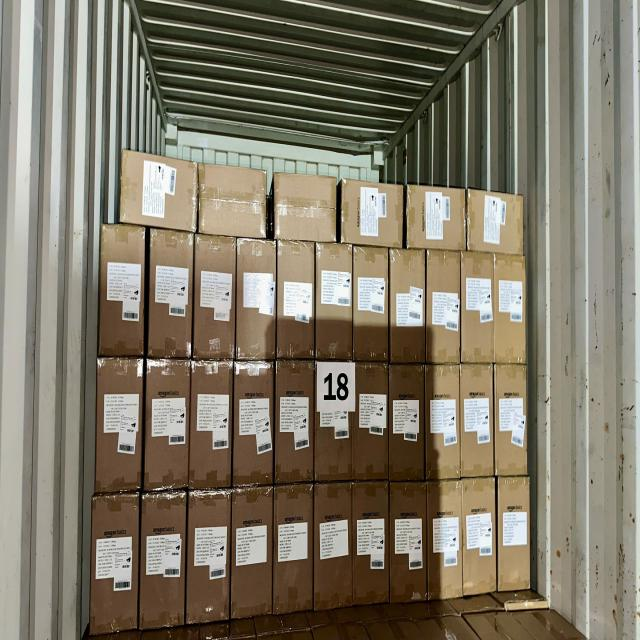Carton: (89, 496, 137, 634), (118, 152, 196, 234), (141, 494, 186, 635), (94, 360, 140, 494), (103, 227, 147, 361), (189, 493, 232, 628), (145, 361, 189, 491), (148, 231, 192, 359), (233, 486, 275, 620), (193, 362, 234, 491), (199, 167, 268, 242), (196, 235, 237, 360), (231, 360, 271, 487), (275, 489, 314, 617), (235, 239, 275, 361), (316, 482, 354, 609), (276, 362, 314, 486), (272, 171, 336, 242), (317, 361, 354, 483), (391, 482, 429, 600), (277, 242, 315, 360), (353, 482, 389, 604), (391, 251, 428, 367), (391, 365, 427, 482), (464, 476, 499, 596), (426, 478, 461, 598), (318, 246, 354, 362), (497, 475, 532, 594), (424, 250, 460, 364), (340, 181, 402, 247), (424, 367, 459, 482), (407, 187, 467, 253), (468, 188, 526, 255), (494, 365, 529, 476), (354, 249, 388, 363), (355, 361, 387, 481), (494, 253, 528, 364), (462, 366, 495, 479), (463, 252, 496, 364)
